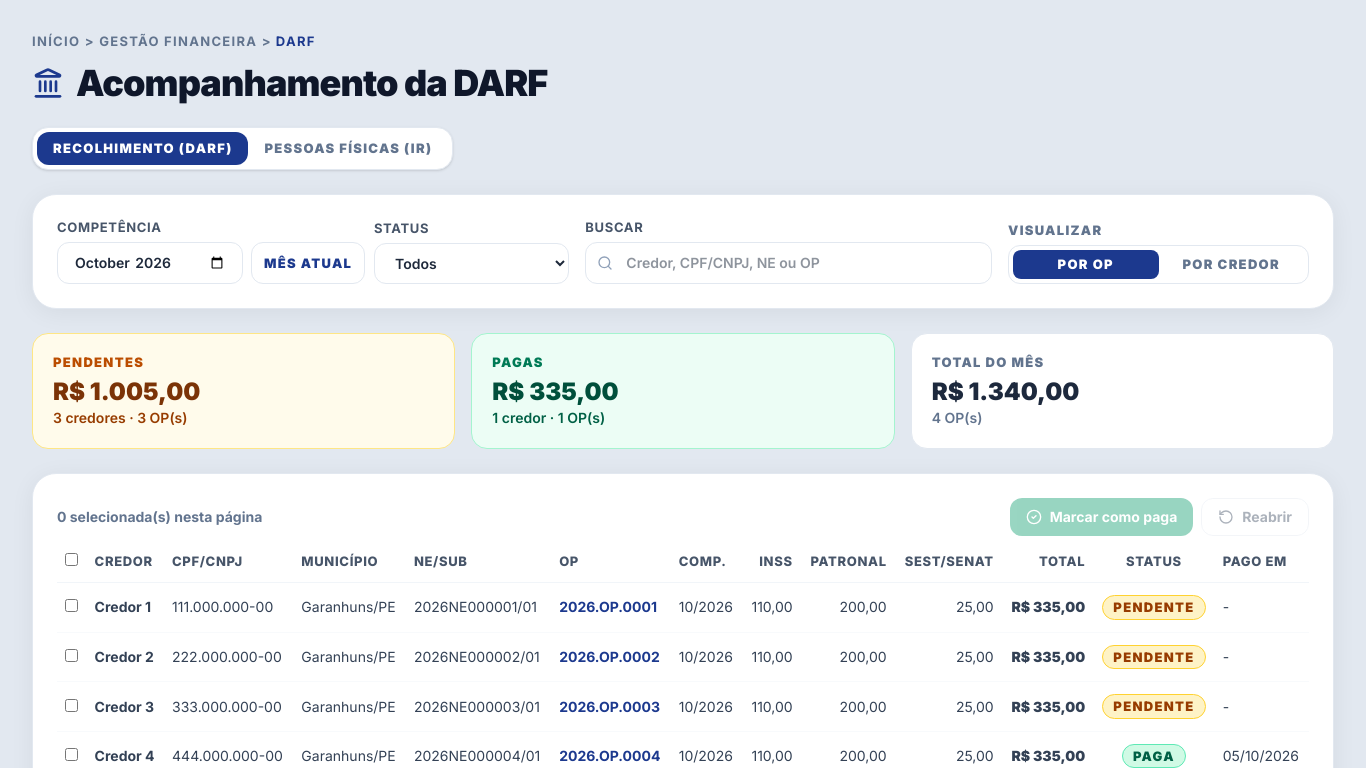
Test: Tela /darf › marcar 3 como pagas: modal pede a data, envia os 3 ids e recarrega lista e cartões
This screenshot has width=1366, height=768.
expect the text "Credor 1" is shown: met, box [87,583,164,632]
Click the checkbox named "Selecionar DARF da OP 2026.OP.0001" at {"x": 72, "y": 606}, box [65,599,78,612]
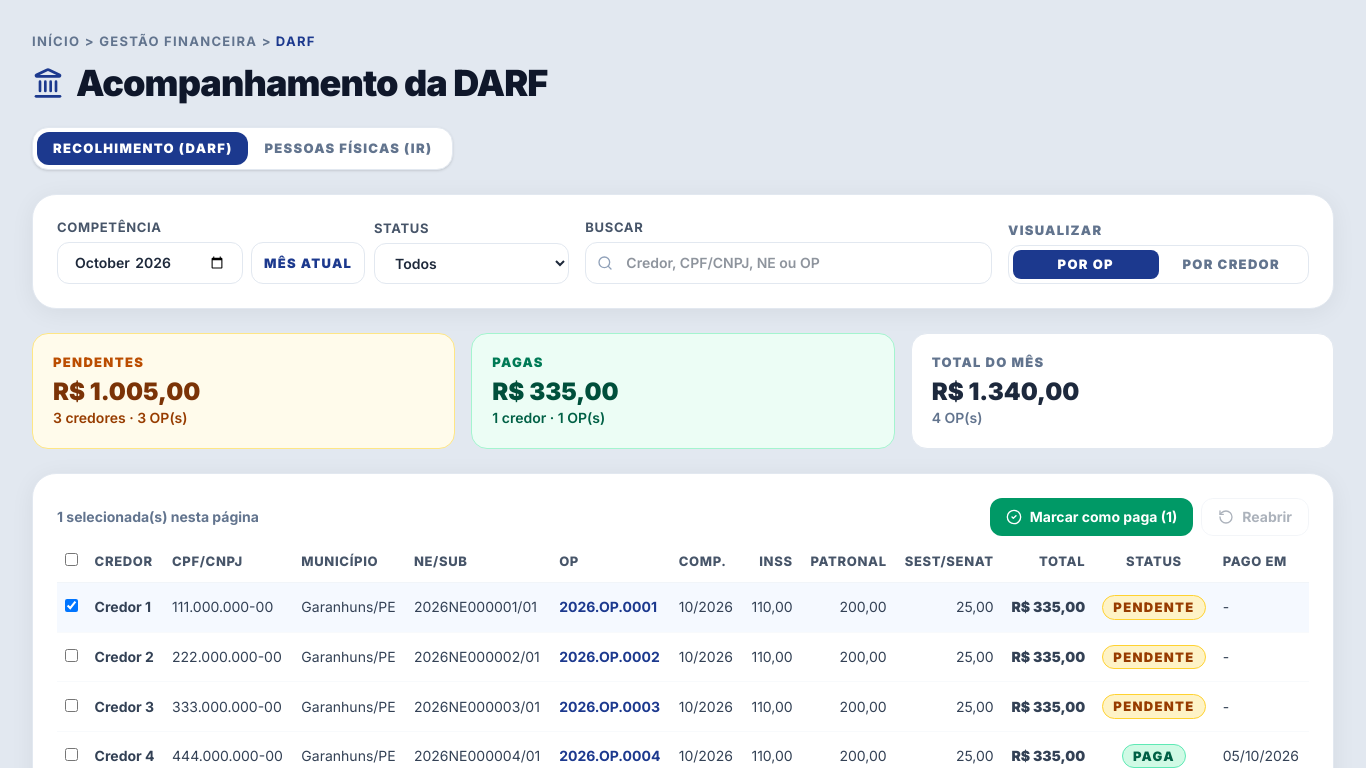
Click the checkbox named "Selecionar DARF da OP 2026.OP.0002" at {"x": 72, "y": 656}, box [65,649,78,662]
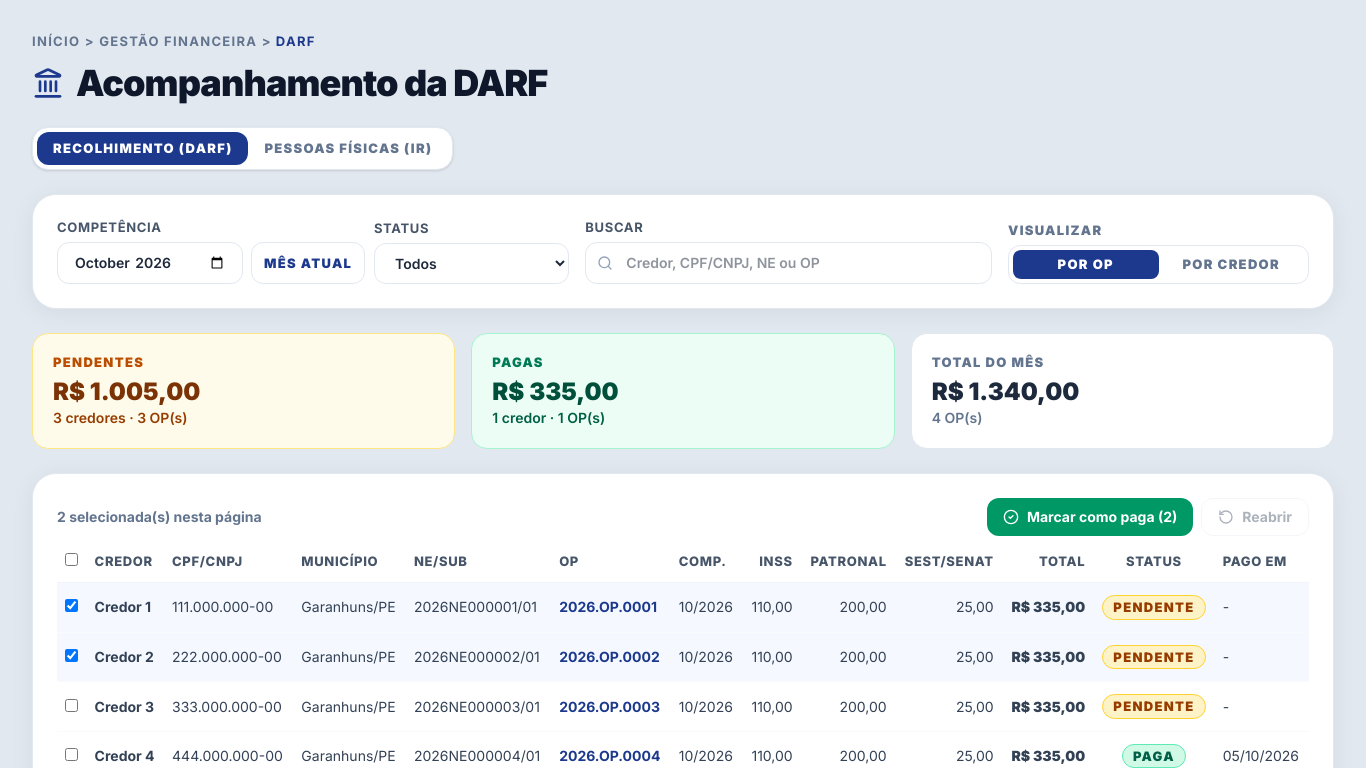
Click the checkbox named "Selecionar DARF da OP 2026.OP.0003" at {"x": 72, "y": 705}, box [65,698,78,712]
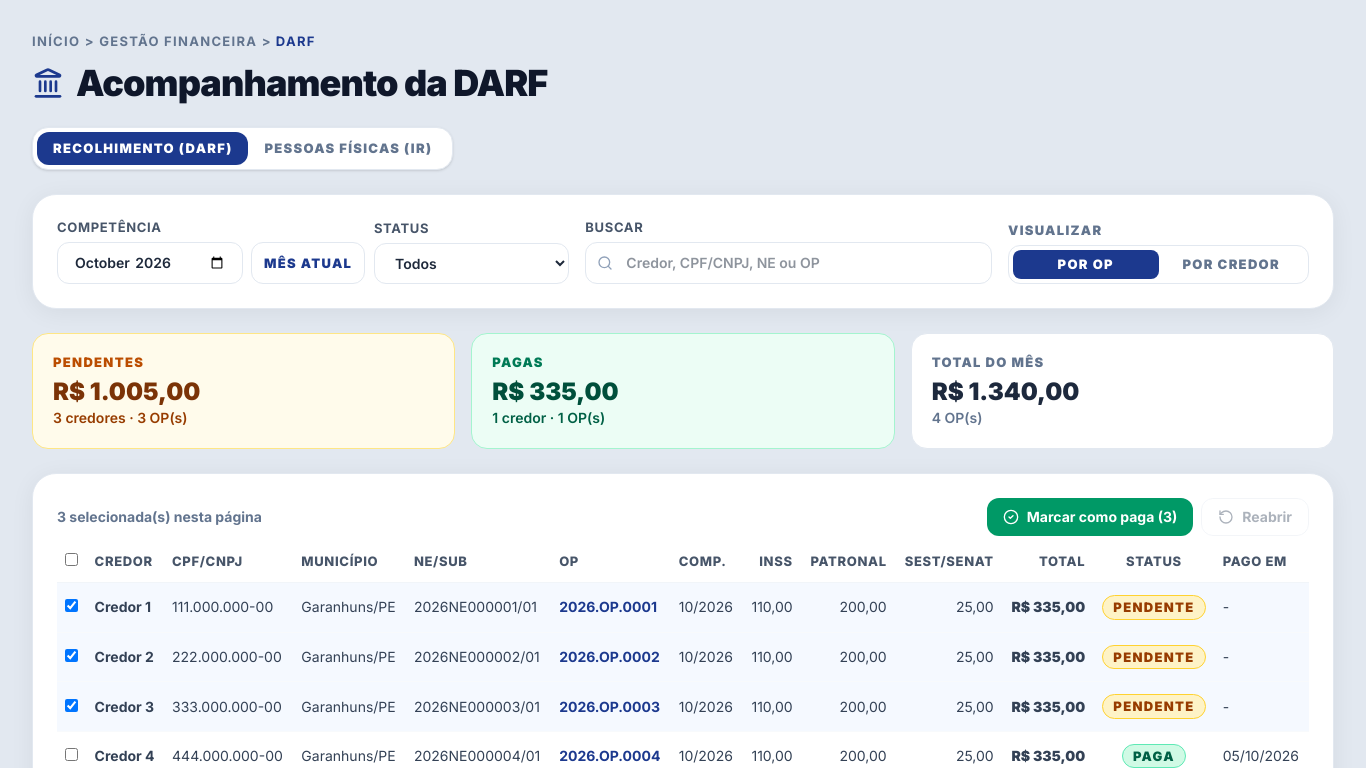
expect the text "3 selecionada(s) nesta página" is shown: met, box [57,506,262,526]
Click the button "Marcar como paga (3)" at {"x": 1090, "y": 516}, box [987,498,1193,536]
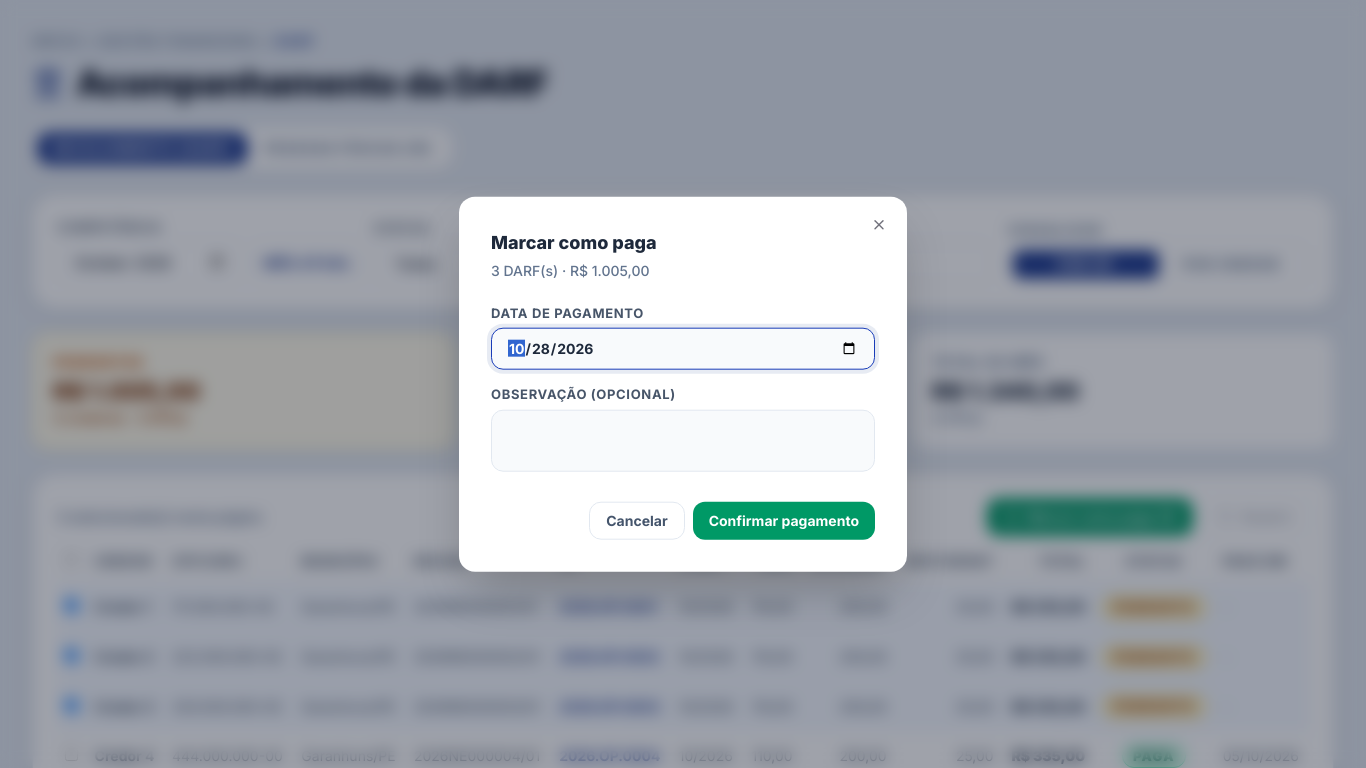
expect the text "3 DARF(s) · R$ 1.005,00" is shown: met, box [491,262,650,279]
Click the button "Confirmar pagamento" at {"x": 784, "y": 520}, box [693,501,875,539]
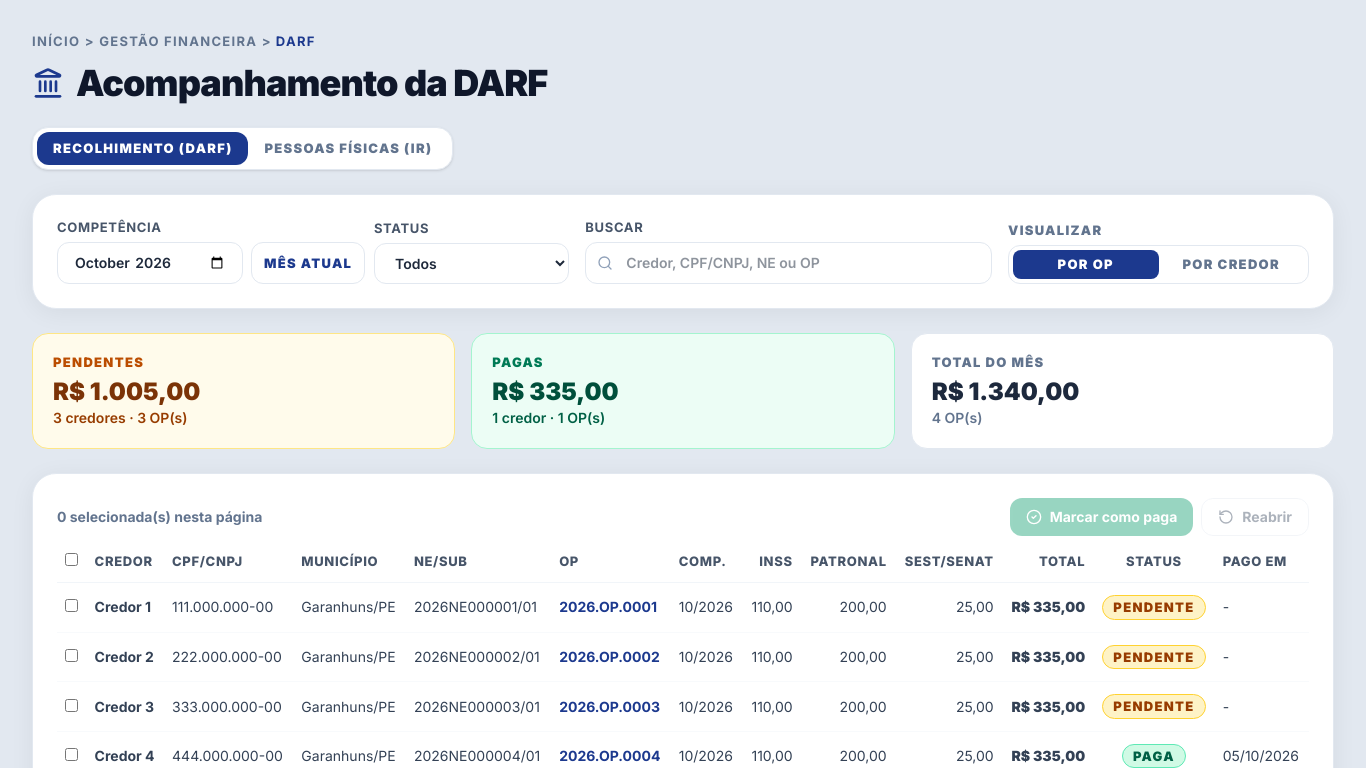
expect the dialog is gone: met
expect the text "0 selecionada(s) nesta página" is shown: met, box [57,506,262,526]
